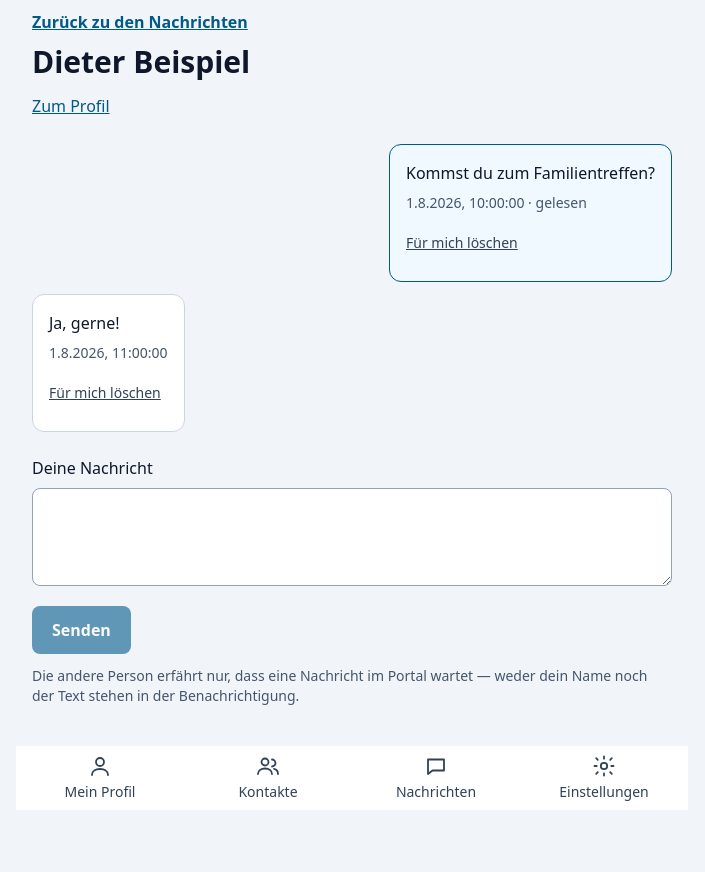
Test: a conversation › gives the words back when sending fails
This screenshot has width=705, height=872.
Type "Bis dann" into the text box labelled "Deine Nachricht" at {"x": 352, "y": 537}, box x1=32 y1=488 x2=672 y2=586
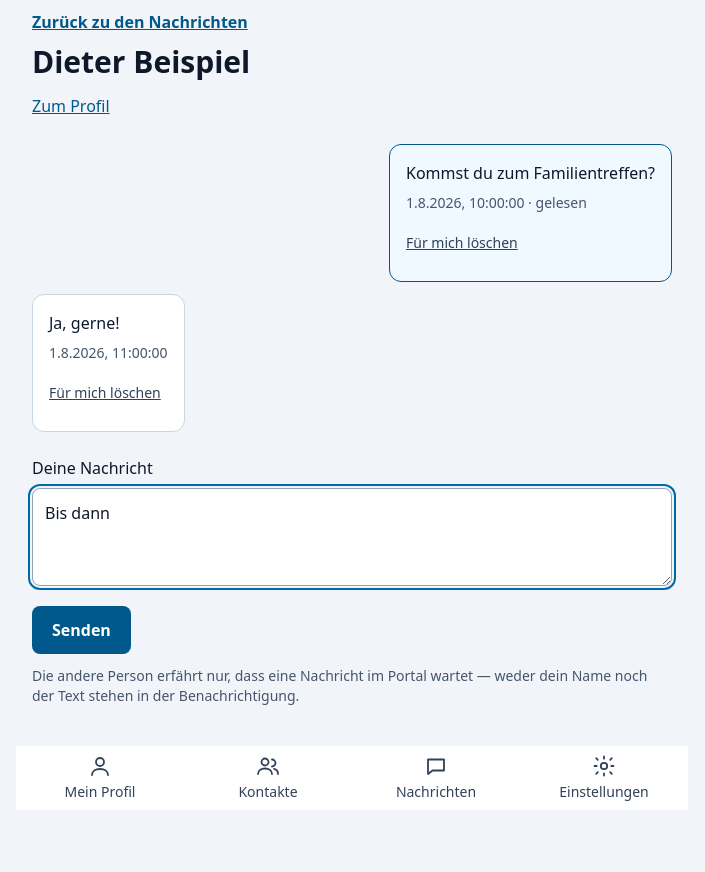
Click the button "Senden" at {"x": 81, "y": 630}, box x1=32 y1=606 x2=131 y2=654
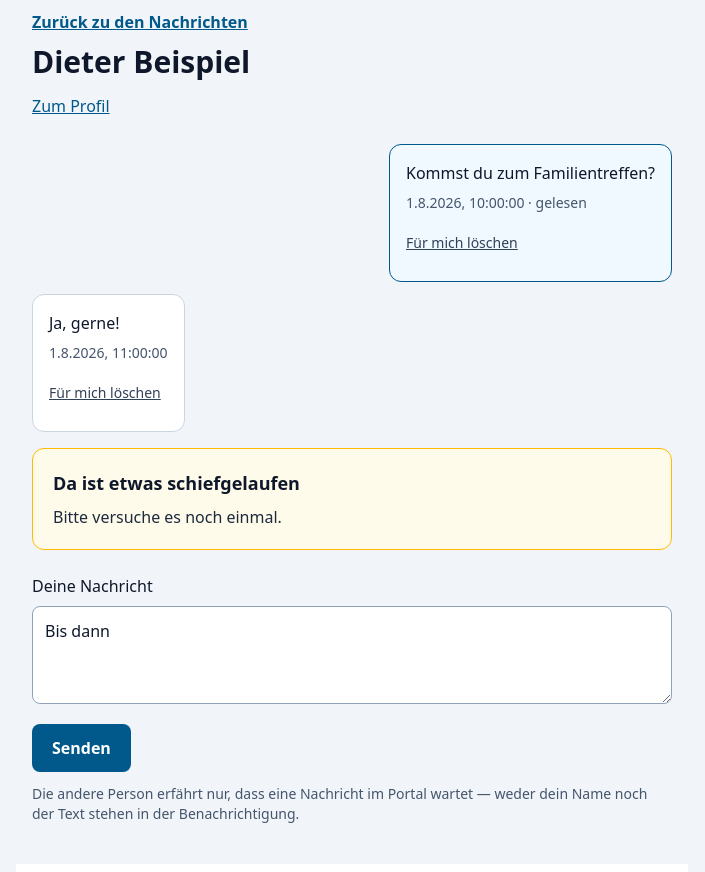
Now the message "Da ist etwas schiefgelaufen Bitte versuche es noch einmal." is shown, box x1=32 y1=448 x2=672 y2=550
